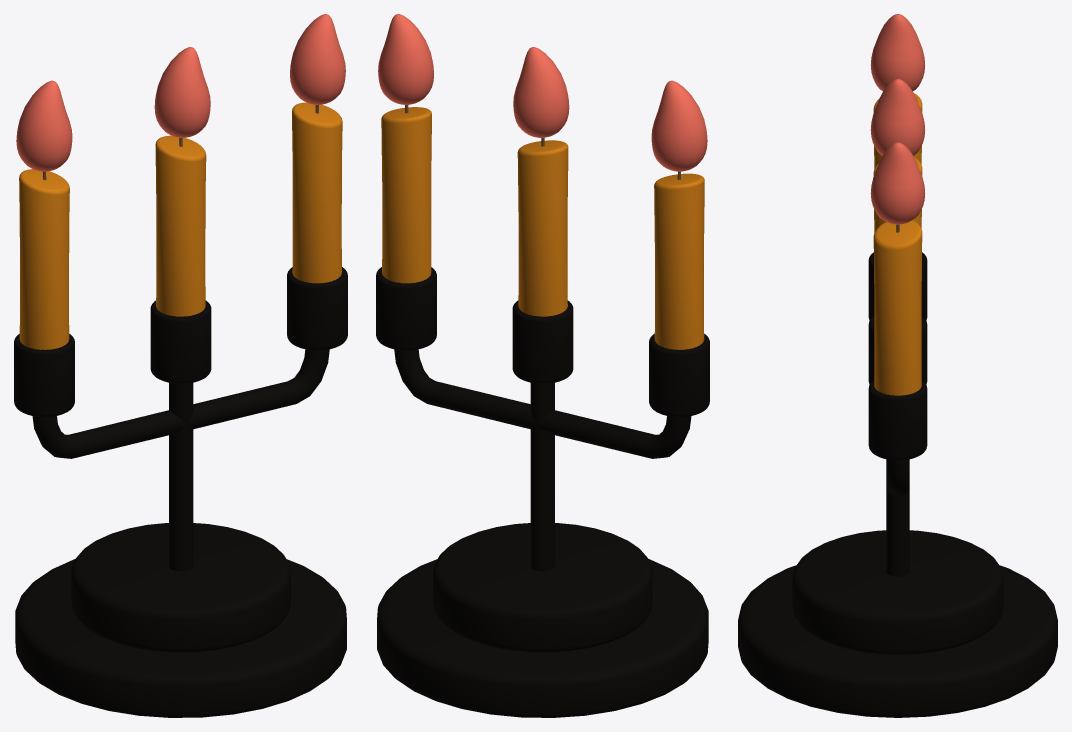
The model's file is candle1.glb.
The picture shows the model from 3 angles, left to right: view 1: azimuth 30°, elevation 25°; view 2: azimuth 150°, elevation 25°; view 3: azimuth 270°, elevation 25°; orthographic projection. The views are drawn at different scales.
Visible parts, largest first — view 1: Plane.048; view 2: Plane.048; view 3: Plane.048.
Boxes of the visible parts, <box> form: Plane.048: <box>14,14,347,717</box>; Plane.048: <box>376,14,709,717</box>; Plane.048: <box>738,14,1057,717</box>.
Bounding box in the file's own units: 1.1 × 1.93 × 0.9683.
